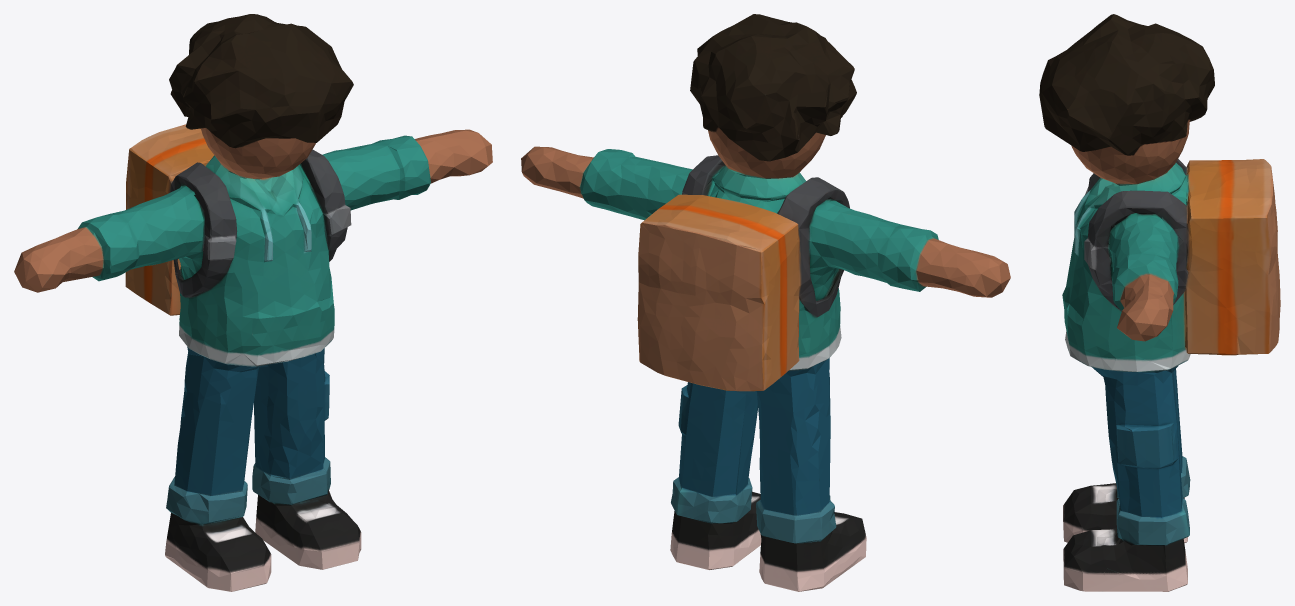
File: student-model-textured.glb
3 views of the same model, side by side, from view 1: azimuth 30°, elevation 25°; view 2: azimuth 150°, elevation 25°; view 3: azimuth 270°, elevation 25° (orthographic).
Parts seen in each view (by area): view 1: geometry_0; view 2: geometry_0; view 3: geometry_0.
Part boxes in pixels (box(x1,y1,x2,y2)): geometry_0: box(14, 14, 492, 591); geometry_0: box(521, 14, 1010, 591); geometry_0: box(1039, 14, 1280, 591).
Size of the model in its own units: 0.9356 by 1 by 0.4153.
1 material, 1 textured.
